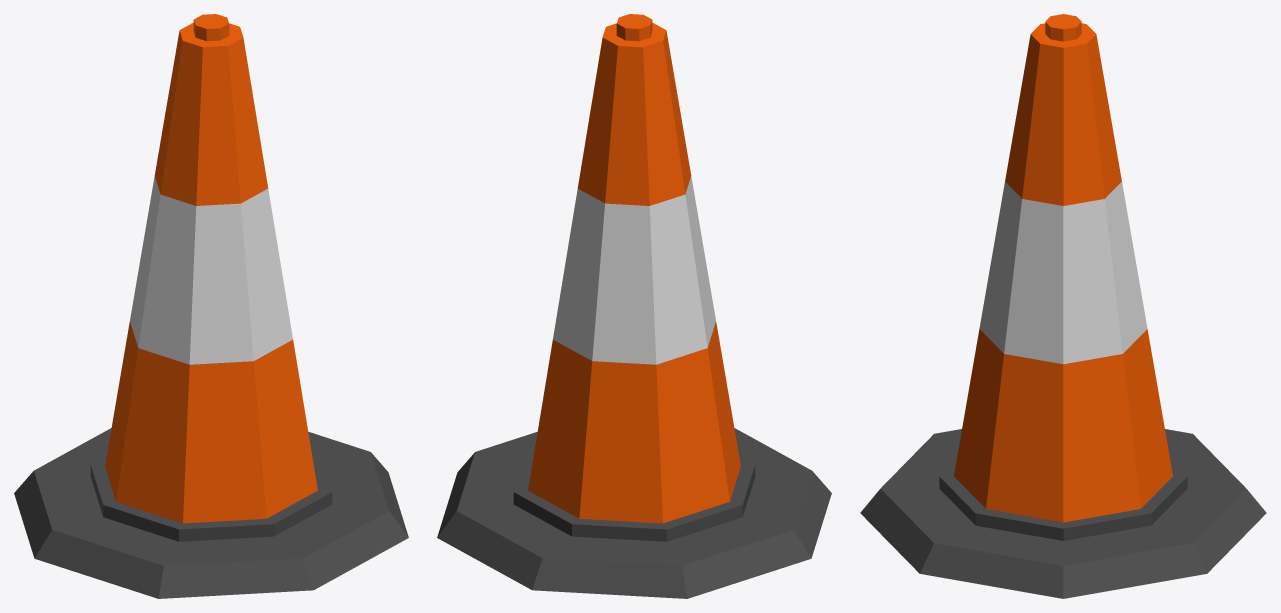
The model's file is Traffic_Cone.obj.
The picture shows the model from 3 angles, left to right: view 1: azimuth 30°, elevation 25°; view 2: azimuth 150°, elevation 25°; view 3: azimuth 270°, elevation 25°; orthographic projection.
Parts seen in each view (by area): view 1: Traffic_Cone; view 2: Traffic_Cone; view 3: Traffic_Cone.
Part boxes in pixels (box(x1,y1,x2,y2)): Traffic_Cone: box(14, 14, 408, 598); Traffic_Cone: box(437, 14, 831, 598); Traffic_Cone: box(860, 14, 1266, 598).
Bounding box in the file's own units: 0.3 × 0.4 × 0.3.
